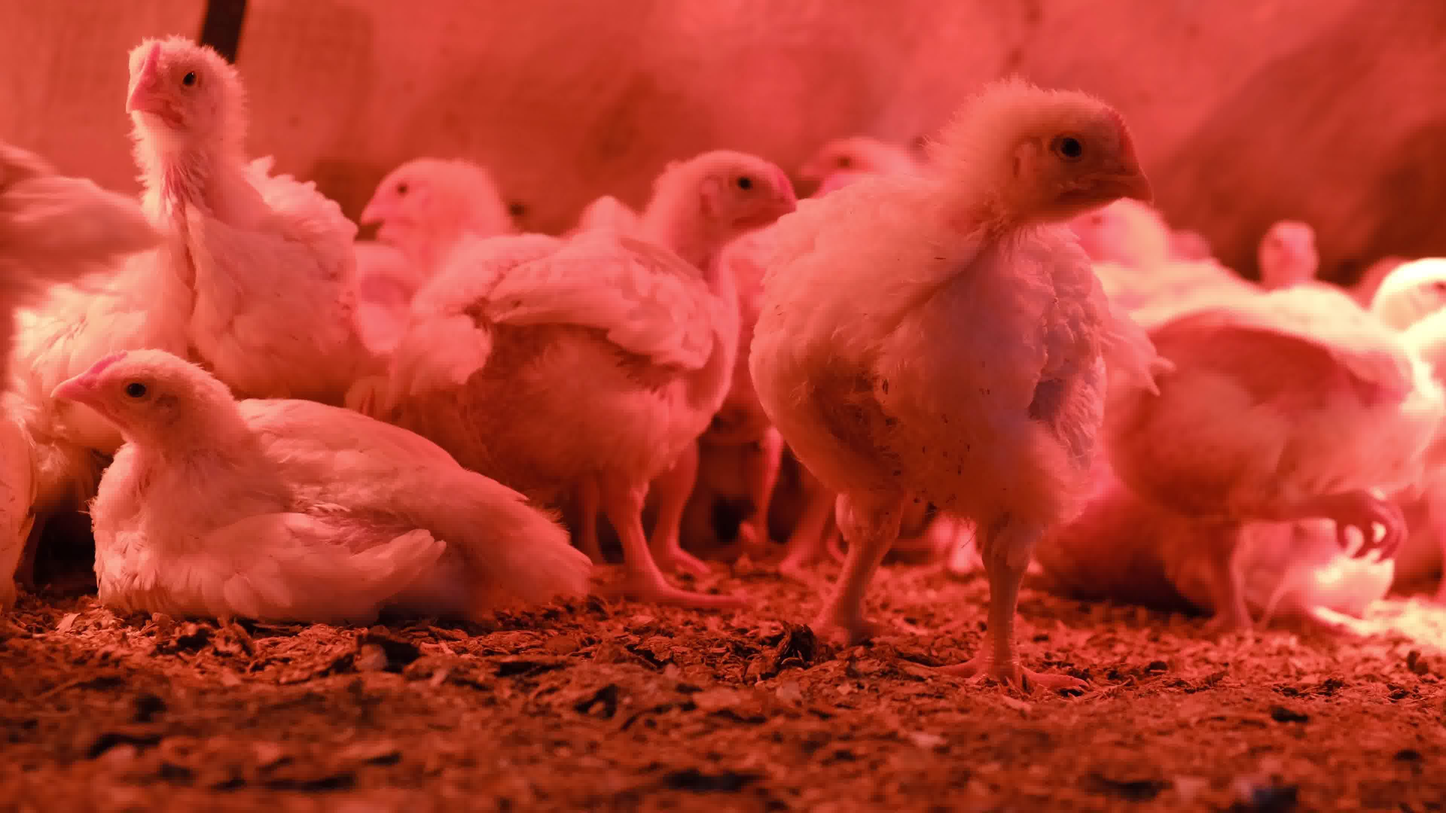AbNormal: (51, 351, 592, 623), (1152, 493, 1405, 626)
Normal: (751, 76, 1156, 684), (393, 145, 802, 602), (1102, 253, 1446, 640), (18, 38, 360, 399), (353, 158, 520, 288), (1066, 197, 1175, 271), (799, 128, 917, 184), (1258, 213, 1332, 291)
